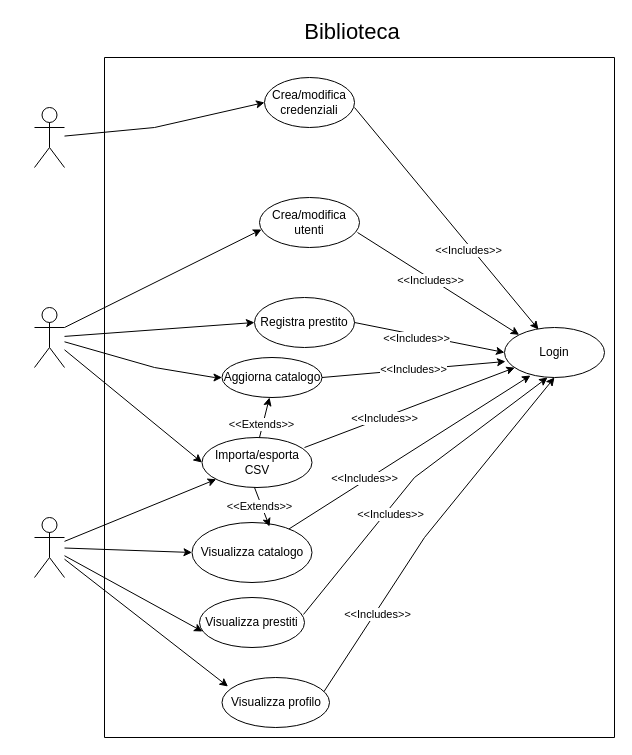
The diagram is 632 pixels wide and 755 high, and some of its shapes have lost their labels. The box of each missing label's shape, as (x1, y1, x2, y2) in pixels:
Admin: (34, 106, 64, 168)
Bibliotecario: (34, 306, 64, 368)
Utente: (34, 516, 64, 578)
